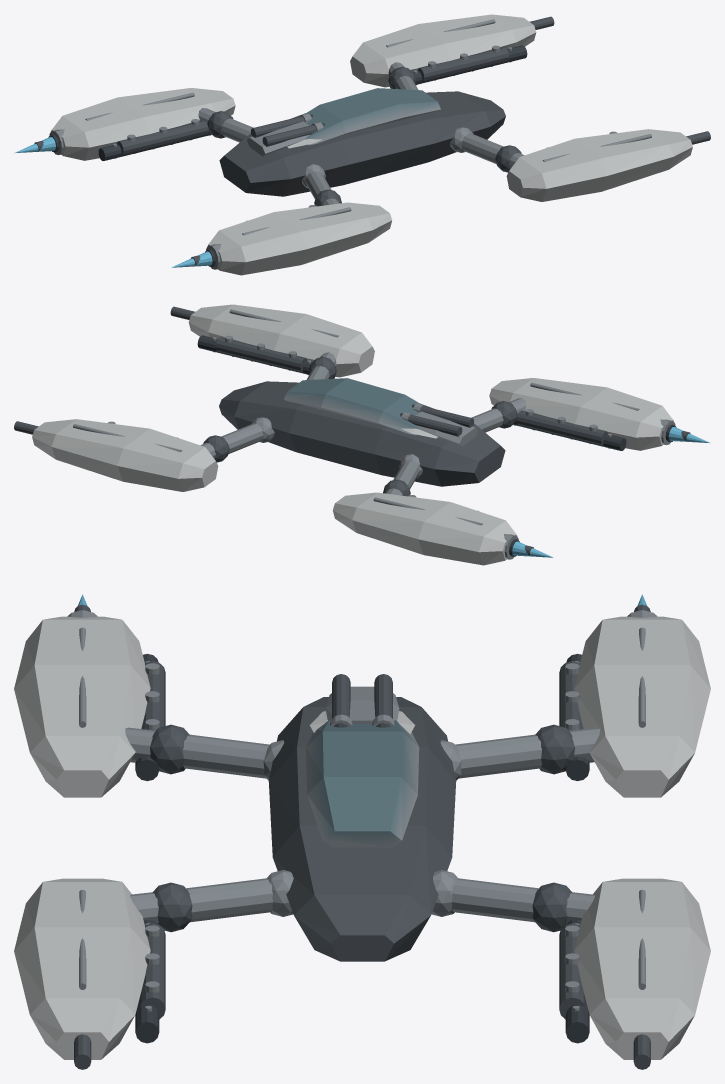
The model's file is x5_white_rig.glb.
The picture shows the model from 3 angles, top to bottom: view 1: azimuth 30°, elevation 25°; view 2: azimuth 150°, elevation 25°; view 3: azimuth 270°, elevation 25°; orthographic projection. The views are drawn at different scales.
Parts seen in each view (by area): view 1: center_hull_0, pod_rear_right, pod_rear_left, pod_front_right, pod_front_left, cabin_base_1, arm_front_right, arm_rear_left, missile_body_3, arm_rear_right, launcher_saddle_2, arm_front_left; view 2: center_hull_0, pod_rear_left, pod_rear_right, pod_front_left, pod_front_right, cabin_base_1, arm_front_left, arm_rear_right, missile_body_3, arm_rear_left, launcher_saddle_2, arm_front_right; view 3: center_hull_0, pod_front_right, pod_front_left, pod_rear_right, pod_rear_left, cabin_base_1, arm_front_right, arm_front_left, arm_rear_left, arm_rear_right, missile_body_3, launcher_saddle_2.
Part boxes in pixels (x1,y1,x2,y2): center_hull_0: [219, 91, 505, 196]; pod_rear_right: [171, 202, 392, 275]; pod_rear_left: [14, 88, 235, 160]; pod_front_right: [506, 129, 710, 201]; pod_front_left: [350, 14, 554, 87]; cabin_base_1: [305, 88, 440, 145]; arm_front_right: [450, 127, 524, 172]; arm_rear_left: [198, 108, 253, 142]; missile_body_3: [250, 115, 323, 146]; arm_rear_right: [302, 164, 341, 206]; launcher_saddle_2: [247, 121, 309, 156]; arm_front_left: [388, 62, 418, 89]; center_hull_0: [219, 381, 505, 486]; pod_rear_left: [332, 492, 553, 565]; pod_rear_right: [489, 378, 710, 450]; pod_front_left: [14, 419, 218, 491]; pod_front_right: [170, 304, 374, 377]; cabin_base_1: [284, 378, 420, 435]; arm_front_left: [200, 417, 274, 462]; arm_rear_right: [471, 398, 526, 432]; missile_body_3: [401, 405, 474, 436]; arm_rear_left: [383, 454, 422, 496]; launcher_saddle_2: [415, 411, 477, 446]; arm_front_right: [306, 352, 336, 379]; center_hull_0: [268, 697, 456, 961]; pod_front_right: [14, 878, 165, 1069]; pod_front_left: [559, 878, 710, 1069]; pod_rear_right: [14, 594, 165, 797]; pod_rear_left: [559, 594, 710, 797]; cabin_base_1: [305, 720, 419, 847]; arm_front_right: [130, 870, 293, 932]; arm_front_left: [431, 870, 594, 932]; arm_rear_left: [440, 724, 600, 780]; arm_rear_right: [125, 724, 284, 780]; missile_body_3: [332, 674, 392, 726]; launcher_saddle_2: [325, 686, 399, 723].
Size of the model in its own units: 8.41 by 0.9 by 5.28.
